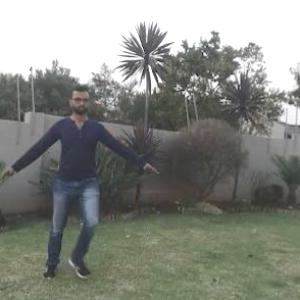land: (22, 89, 154, 252)
